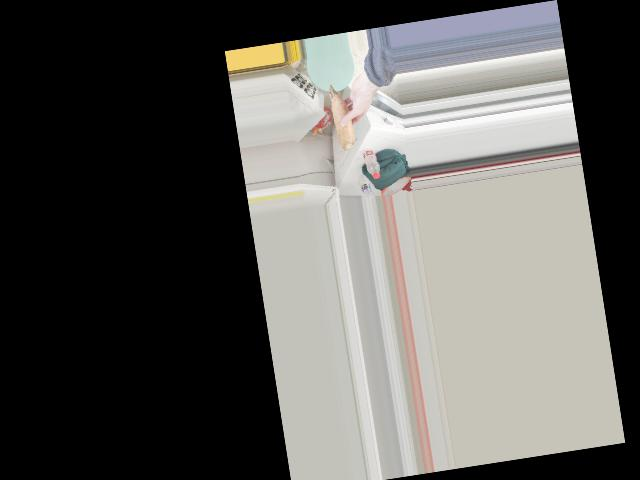sweet_potato: (327, 83, 359, 153)
